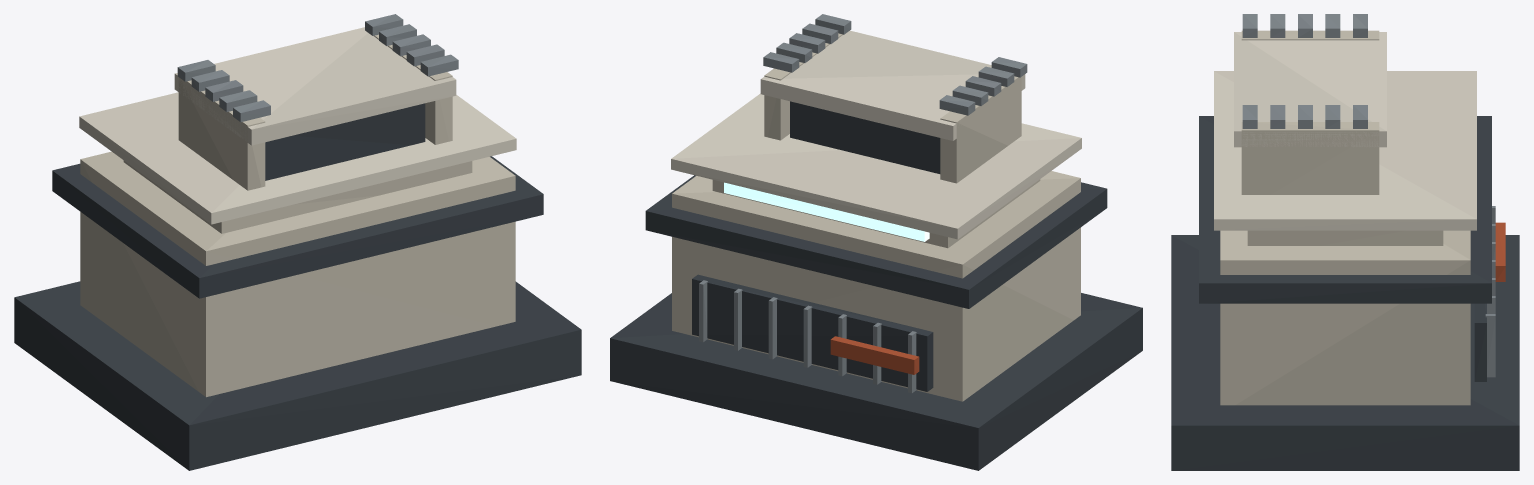
The model's file is receiver-command.glb.
3 views of the same model, side by side, from view 1: azimuth 30°, elevation 25°; view 2: azimuth 150°, elevation 25°; view 3: azimuth 270°, elevation 25° (orthographic). The views are drawn at different scales.
Parts seen in each view (by area): view 1: receiver-command__ceramic, receiver-command__graphite, receiver-command__edge, receiver-command__metal; view 2: receiver-command__graphite, receiver-command__ceramic, receiver-command__edge, receiver-command__metal, receiver-command__light, receiver-command__oxide; view 3: receiver-command__graphite, receiver-command__ceramic, receiver-command__edge, receiver-command__metal, receiver-command__oxide.
Part boxes in pixels (bbox=[...]): receiver-command__ceramic: bbox=[80, 34, 515, 397]; receiver-command__graphite: bbox=[14, 103, 581, 470]; receiver-command__edge: bbox=[79, 27, 516, 224]; receiver-command__metal: bbox=[177, 14, 458, 122]; receiver-command__graphite: bbox=[610, 101, 1142, 470]; receiver-command__ceramic: bbox=[672, 33, 1080, 401]; receiver-command__edge: bbox=[671, 30, 1081, 239]; receiver-command__metal: bbox=[699, 14, 1027, 393]; receiver-command__light: bbox=[724, 182, 929, 241]; receiver-command__oxide: bbox=[830, 336, 919, 374]; receiver-command__graphite: bbox=[1171, 116, 1519, 470]; receiver-command__ceramic: bbox=[1220, 30, 1470, 405]; receiver-command__edge: bbox=[1214, 32, 1476, 230]; receiver-command__metal: bbox=[1242, 14, 1495, 377]; receiver-command__oxide: bbox=[1495, 222, 1505, 281].
Bounding box in the file's own units: 180 × 136 × 139.
